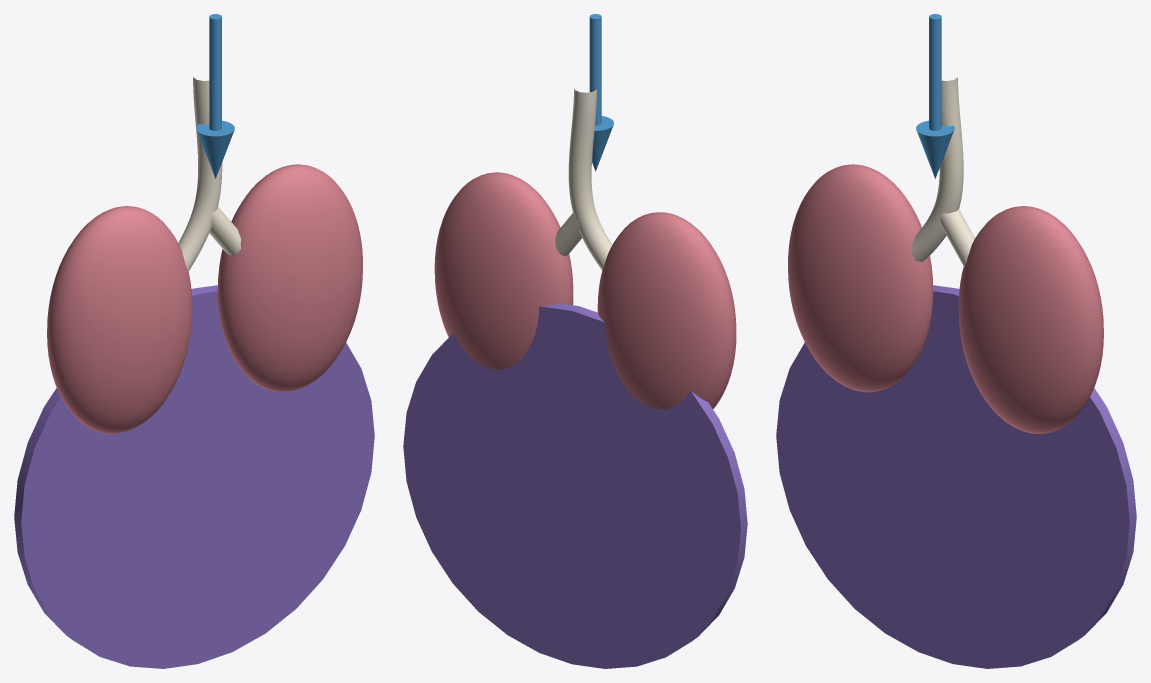
File: bio-p1-breathing.glb
The picture shows the model from 3 angles, left to right: view 1: azimuth 30°, elevation 25°; view 2: azimuth 150°, elevation 25°; view 3: azimuth 330°, elevation 25°; orthographic projection. The views are drawn at different scales.
Parts seen in each view (by area): view 1: diaphragm-moving-dome, left-lung-air-sac, right-lung-air-sac, trachea-splits-to-bronchi, air-in-flow-shaft, air-in-flow-head, bronchus-to-right-lung; view 2: diaphragm-moving-dome, left-lung-air-sac, right-lung-air-sac, trachea-splits-to-bronchi, air-in-flow-shaft, bronchus-to-right-lung, air-in-flow-head; view 3: diaphragm-moving-dome, right-lung-air-sac, left-lung-air-sac, trachea-splits-to-bronchi, air-in-flow-shaft, air-in-flow-head, bronchus-to-right-lung.
Boxes of the visible parts, bbox=[...] form: diaphragm-moving-dome: bbox=[14, 285, 374, 668]; left-lung-air-sac: bbox=[47, 206, 192, 433]; right-lung-air-sac: bbox=[217, 164, 362, 392]; trachea-splits-to-bronchi: bbox=[178, 77, 222, 272]; air-in-flow-shaft: bbox=[209, 14, 221, 130]; air-in-flow-head: bbox=[196, 120, 234, 178]; bronchus-to-right-lung: bbox=[209, 207, 240, 255]; diaphragm-moving-dome: bbox=[403, 303, 747, 668]; left-lung-air-sac: bbox=[597, 212, 736, 409]; right-lung-air-sac: bbox=[434, 172, 573, 369]; trachea-splits-to-bronchi: bbox=[568, 87, 612, 270]; air-in-flow-shaft: bbox=[589, 14, 601, 125]; bronchus-to-right-lung: bbox=[555, 213, 581, 256]; air-in-flow-head: bbox=[592, 116, 613, 171]; diaphragm-moving-dome: bbox=[776, 285, 1136, 668]; right-lung-air-sac: bbox=[958, 206, 1103, 433]; left-lung-air-sac: bbox=[788, 164, 933, 392]; trachea-splits-to-bronchi: bbox=[912, 77, 963, 261]; air-in-flow-shaft: bbox=[929, 14, 941, 130]; air-in-flow-head: bbox=[916, 120, 954, 178]; bronchus-to-right-lung: bbox=[939, 209, 974, 266].
Size of what is drawn, in the model's own units: 1.16 by 2.07 by 0.2352.
